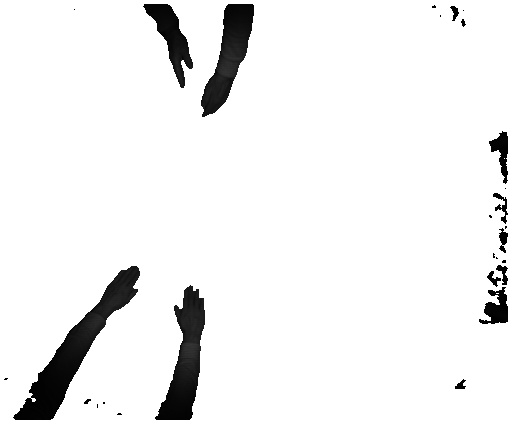hand: (91, 264, 143, 311), (168, 280, 207, 335), (201, 78, 239, 119)
spine: (152, 37, 196, 87)
